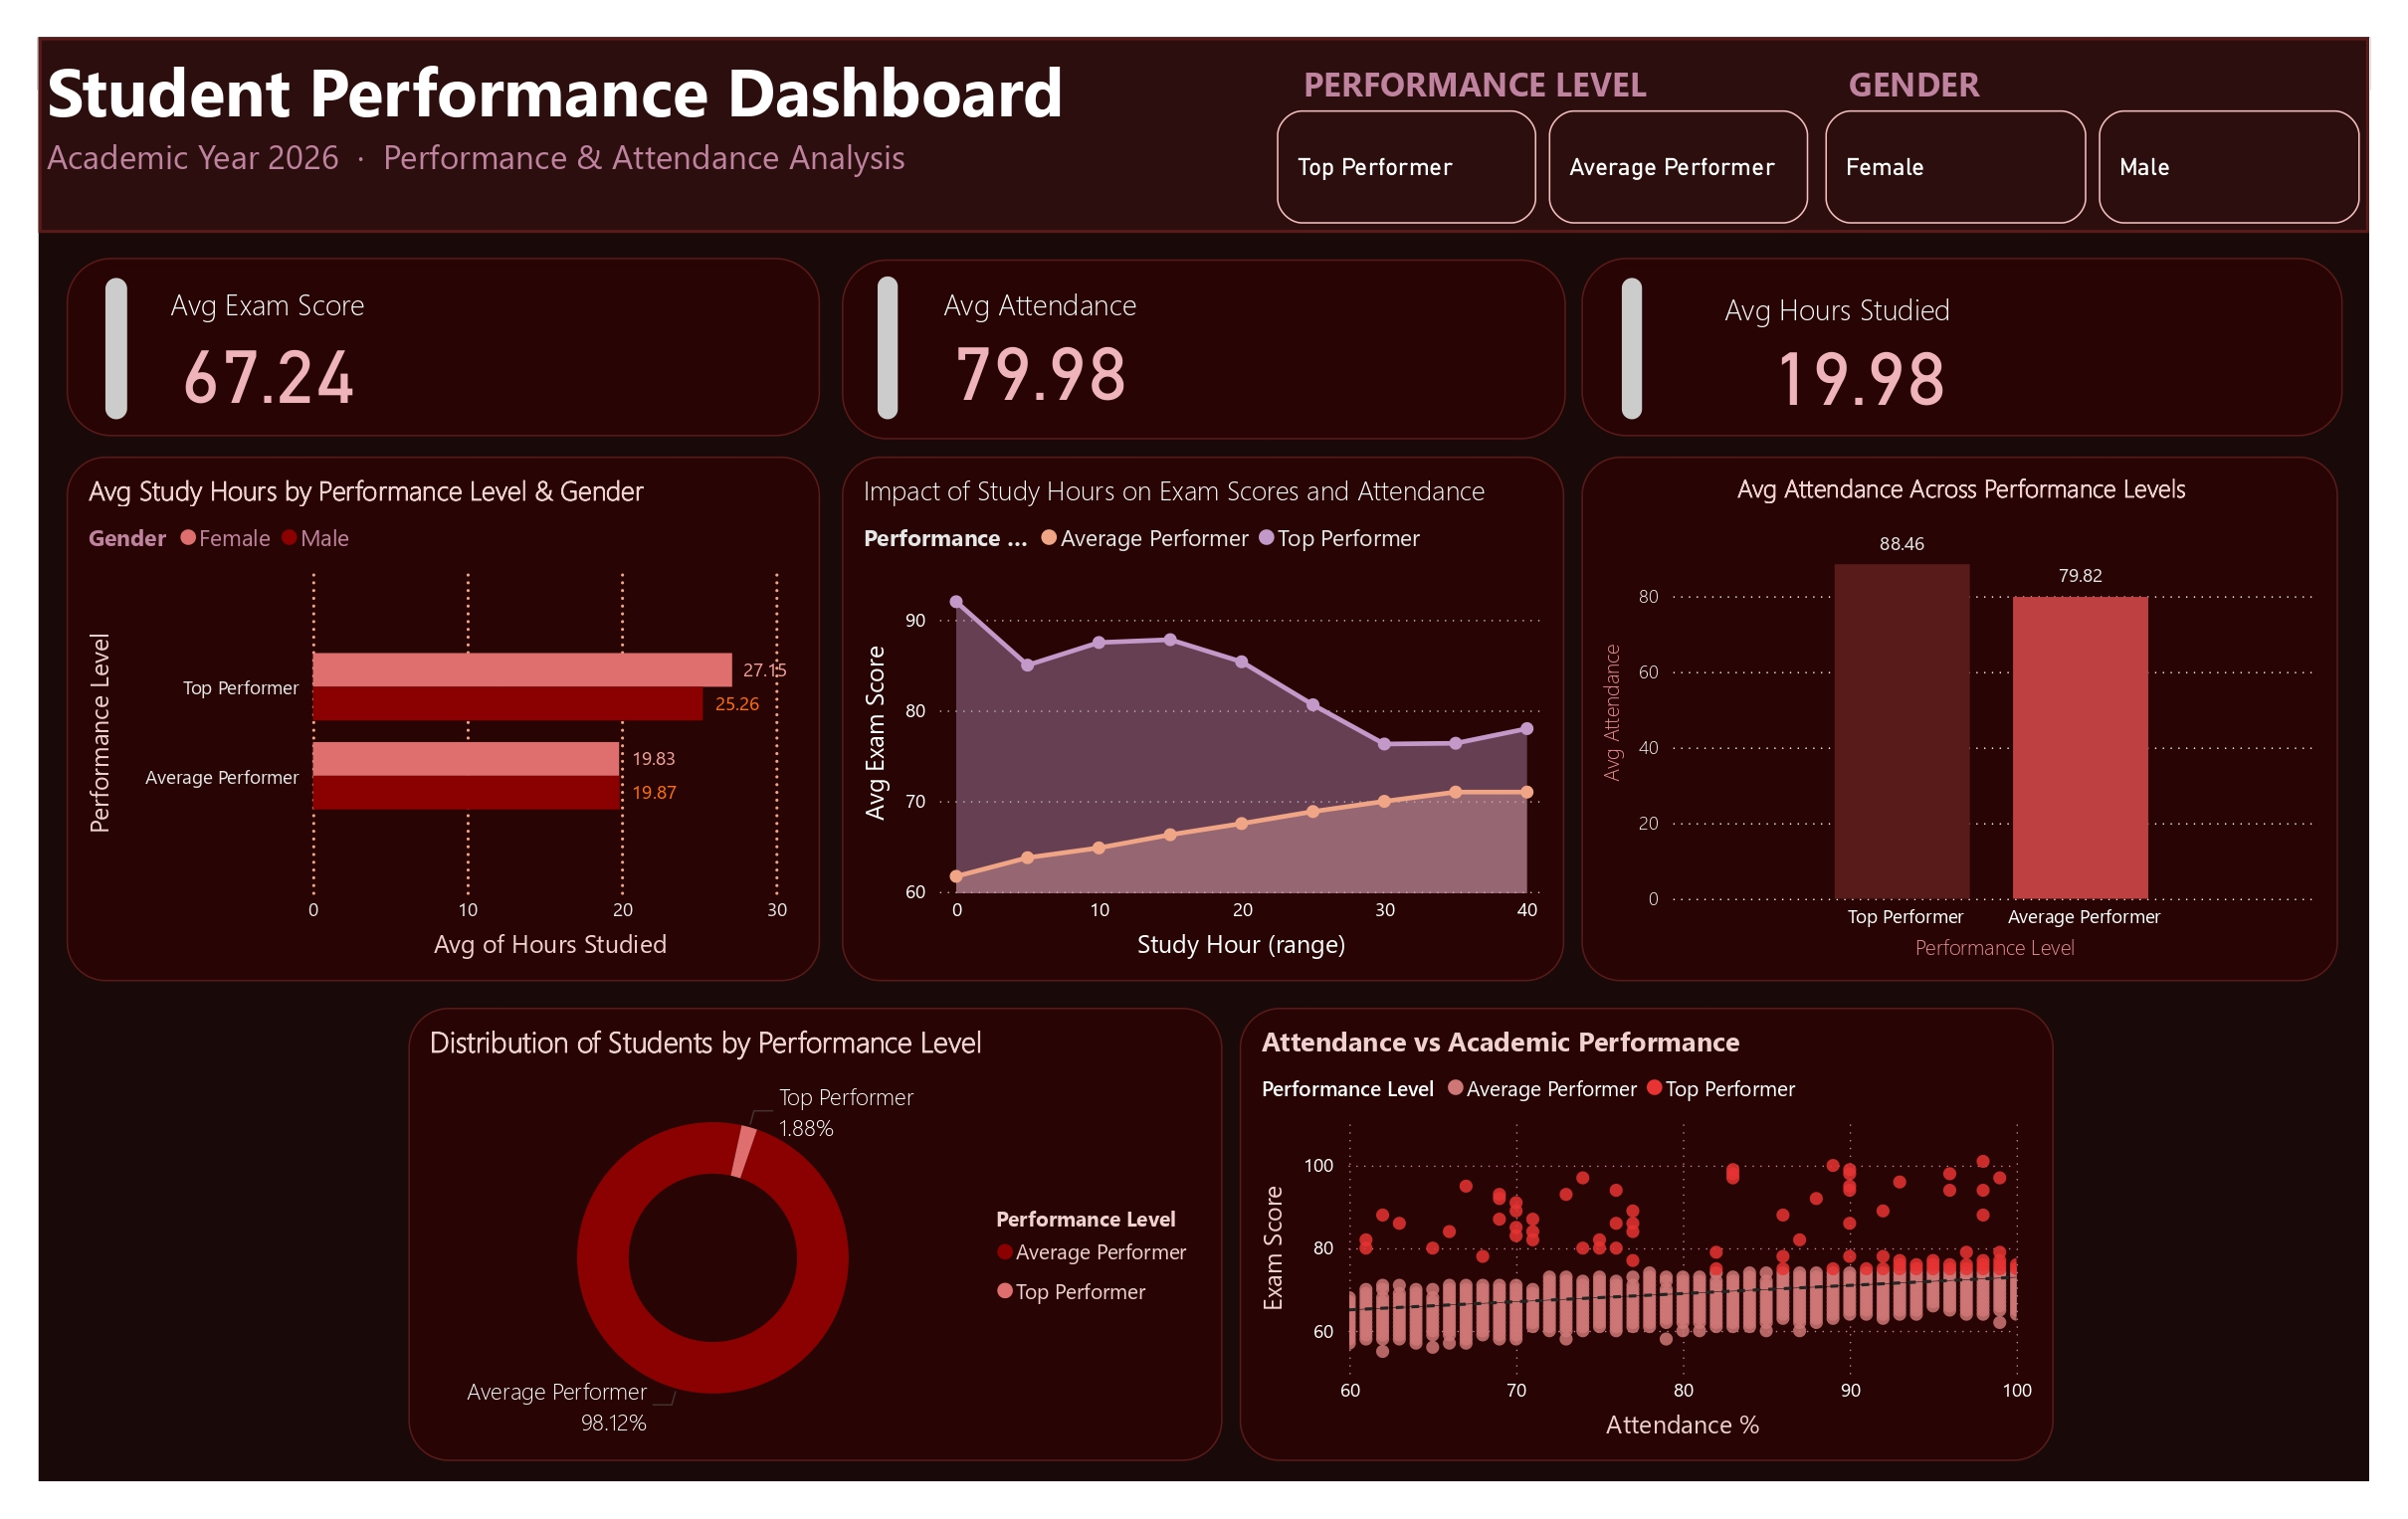

Layout of this report page (visuals, bound fields, positions):
{"tool":"powerbi","page":{"name":"Stud Performa","canvas":[1500,930],"ordinal":0},"visuals":[{"type":"group","id":"g1","title":"Group 2","box":[0,0,1500,125.7],"z":0},{"type":"shape","box":[0,0,1500,125.7],"z":0,"group":"g1"},{"type":"shape","box":[517.1,142.9,465.7,115.7],"z":0,"group":"g3"},{"type":"group","id":"g2","title":"Group 7","box":[993.3,141.7,490,115],"z":1000},{"type":"shape","box":[540,154.3,12.9,91.4],"z":1000,"group":"g3"},{"type":"group","id":"g3","title":"Group 3","box":[517.1,142.9,465.7,115.7],"z":2000},{"type":"group","id":"g4","title":"Group 6","box":[18.3,141.7,485,115],"z":3000},{"type":"shape","box":[18.3,141.7,485,115],"z":4000,"group":"g4"},{"type":"donutChart","title":"Distribution of Students by Performance Level","fields":{"Series":["Main_sheet.Performance_Level"],"Y":["CountNonNull(Main_sheet.Student_id)"]},"box":[238.3,625,523.3,291.7],"z":4000},{"type":"areaChart","title":"Impact of Study Hours on Exam Scores and Attendance","fields":{"Y":["Avg(Main_sheet.Exam_Score)"],"Category":["Main_sheet.Hours_Studied (bins)"],"Series":["Main_sheet.Performance_Level"]},"box":[516.7,270,465,338.3],"z":5000},{"type":"clusteredBarChart","title":"Avg Study Hours by Performance Level & Gender","fields":{"Category":["Main_sheet.Performance_Level"],"Y":["Avg(Main_sheet.Hours_Studied)"],"Series":["Main_sheet.Gender"]},"box":[18.3,270,485,338.3],"z":6000},{"type":"clusteredColumnChart","title":"Avg Attendance Across Performance Levels","fields":{"Category":["Main_sheet.Performance_Level"],"Y":["Main_sheet.Avg Attendance "]},"box":[993.3,270,486.7,338.3],"z":7000},{"type":"card","title":"Avg Exam Score","fields":{"Values":["Main_sheet.Avg Exam Score"]},"box":[55.7,154.3,182.9,91.4],"z":8000},{"type":"advancedSlicerVisual","title":"PERFORMANCE LEVEL","fields":{"Values":["Main_sheet.Performance_Level"]},"box":[791.7,41.7,353.3,83.3],"z":9000,"group":"g6"},{"type":"card","title":"Avg Hours Studied","fields":{"Values":["Main_sheet.Avg Hours Studied"]},"box":[1080,157.1,182.9,88.6],"z":10000},{"type":"textbox","box":[808.4,10,325,53.3],"z":11000,"group":"g6"},{"type":"card","title":"Avg Attendance","fields":{"Values":["Main_sheet.Avg Attendance "]},"box":[552.9,154.3,182.9,88.6],"z":12000},{"type":"textbox","box":[0,0,796.7,125],"z":13000,"group":"g1"},{"type":"shape","box":[43.6,154.5,13.4,90.9],"z":13000,"group":"g4"},{"type":"textbox","box":[1160,10,340,63.3],"z":14000,"group":"g5"},{"type":"scatterChart","title":"Attendance vs Academic Performance","fields":{"X":["Main_sheet.Attendance"],"Y":["Main_sheet.Exam_Score"],"Series":["Main_sheet.Performance_Level"]},"box":[773.3,625,523.3,291.7],"z":14000},{"type":"advancedSlicerVisual","title":"PERFORMANCE LEVEL","fields":{"Values":["Main_sheet.Gender"]},"box":[1145,41.7,355,83.3],"z":15000,"group":"g5"},{"type":"shape","box":[993.3,141.7,490,115],"z":15000,"group":"g2"},{"type":"group","id":"g5","title":"Group 1","box":[1145,10,355,115],"z":15001},{"type":"group","id":"g6","title":"Group 4","box":[791.7,10,353.3,115],"z":15002},{"type":"shape","box":[1018.9,154.5,13.5,90.9],"z":16000,"group":"g2"}]}

Visuals, with their boxes in screenshot pixels (x1, y1, x2, y2), scaled from the page's 1500x930 canvas onto the 2408x1519 screenshot:
"Group 2" group: l=0, t=0, r=2407, b=205
shape: l=0, t=0, r=2407, b=205
shape: l=830, t=234, r=1578, b=423
"Group 7" group: l=1595, t=232, r=2381, b=419
shape: l=867, t=252, r=888, b=401
"Group 3" group: l=830, t=234, r=1578, b=423
"Group 6" group: l=30, t=232, r=808, b=419
shape: l=30, t=232, r=808, b=419
"Distribution of Students by Performance Level" donutChart: l=382, t=1021, r=1223, b=1497
"Impact of Study Hours on Exam Scores and Attendance" areaChart: l=830, t=441, r=1576, b=994
"Avg Study Hours by Performance Level & Gender" clusteredBarChart: l=30, t=441, r=808, b=994
"Avg Attendance Across Performance Levels" clusteredColumnChart: l=1595, t=441, r=2376, b=994
"Avg Exam Score" card: l=90, t=252, r=383, b=401
"PERFORMANCE LEVEL" advancedSlicerVisual: l=1271, t=68, r=1838, b=204
"Avg Hours Studied" card: l=1733, t=257, r=2027, b=401
textbox: l=1298, t=16, r=1820, b=103
"Avg Attendance" card: l=888, t=252, r=1181, b=397
textbox: l=0, t=0, r=1279, b=204
shape: l=70, t=253, r=92, b=401
textbox: l=1862, t=16, r=2407, b=119
"Attendance vs Academic Performance" scatterChart: l=1242, t=1021, r=2082, b=1497
"PERFORMANCE LEVEL" advancedSlicerVisual: l=1838, t=68, r=2407, b=204
shape: l=1595, t=232, r=2381, b=419
"Group 1" group: l=1838, t=16, r=2407, b=204
"Group 4" group: l=1271, t=16, r=1838, b=204
shape: l=1636, t=253, r=1658, b=401
